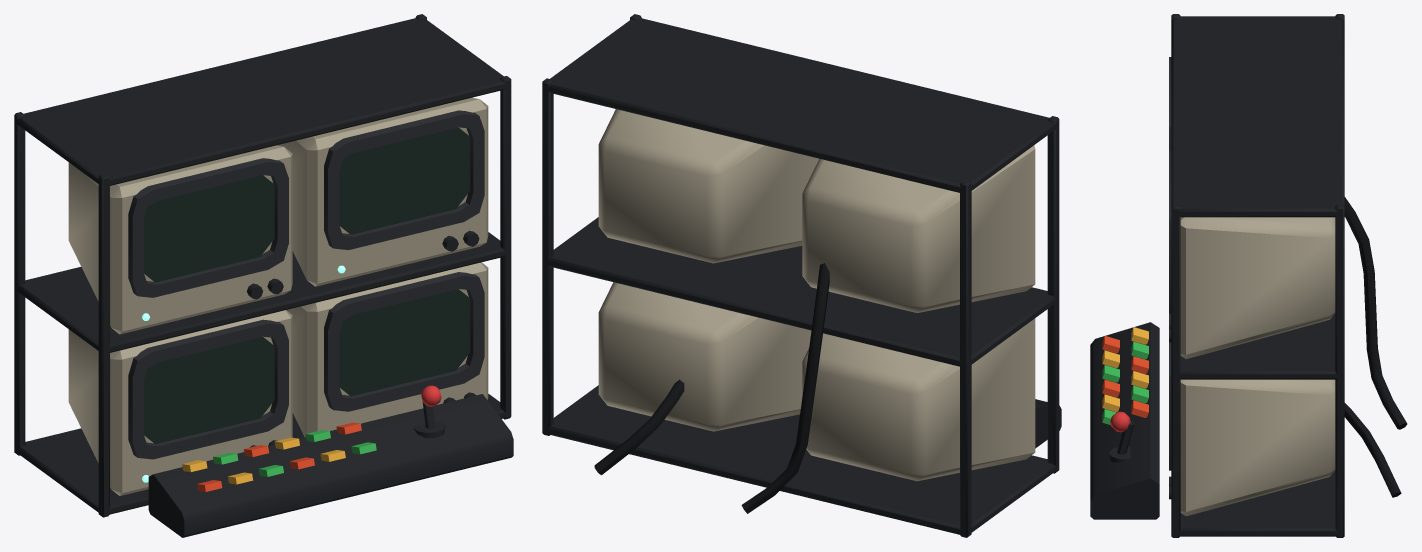
Rendered from Shop_CCTVMonitor.fbx.
3 views of the same model, side by side, from view 1: azimuth 30°, elevation 25°; view 2: azimuth 150°, elevation 25°; view 3: azimuth 270°, elevation 25° (orthographic). The views are drawn at different scales.
Parts seen in each view (by area): view 1: Rack, Cases, Bezels, Screen4, Screen2, Screen1, Screen3, Knobs, Buttons2, Buttons3, Buttons1; view 2: Cases, Rack, Cables; view 3: Rack, Cases, Cables, Bezels, Buttons2, Buttons1, Buttons3, Knobs.
Part boxes in pixels (x1,y1,x2,y2): Rack: (14, 14, 513, 537); Cases: (68, 97, 488, 495); Bezels: (128, 110, 484, 459); Screen4: (339, 289, 470, 396); Screen2: (339, 127, 470, 234); Screen1: (144, 175, 274, 282); Screen3: (144, 337, 274, 443); Knobs: (247, 230, 479, 447); Buttons2: (182, 437, 345, 484); Buttons3: (213, 430, 376, 476); Buttons1: (197, 422, 361, 491); Cases: (598, 109, 1035, 481); Rack: (542, 14, 1061, 537); Cables: (594, 263, 829, 513); Rack: (1090, 14, 1344, 537); Cases: (1180, 217, 1335, 516); Cables: (1344, 197, 1407, 497); Bezels: (1169, 57, 1171, 470); Buttons2: (1102, 327, 1148, 411); Buttons1: (1102, 336, 1148, 417); Buttons3: (1102, 341, 1148, 424); Knobs: (1109, 319, 1171, 499).
Bounding box in the file's own units: 398 × 316 × 274.
